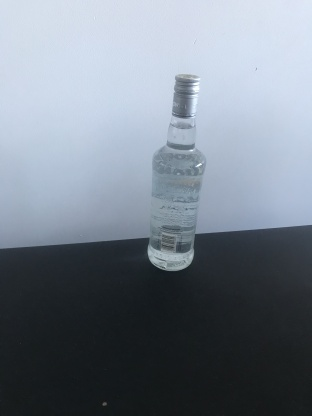nakretka: (170, 71, 201, 120)
